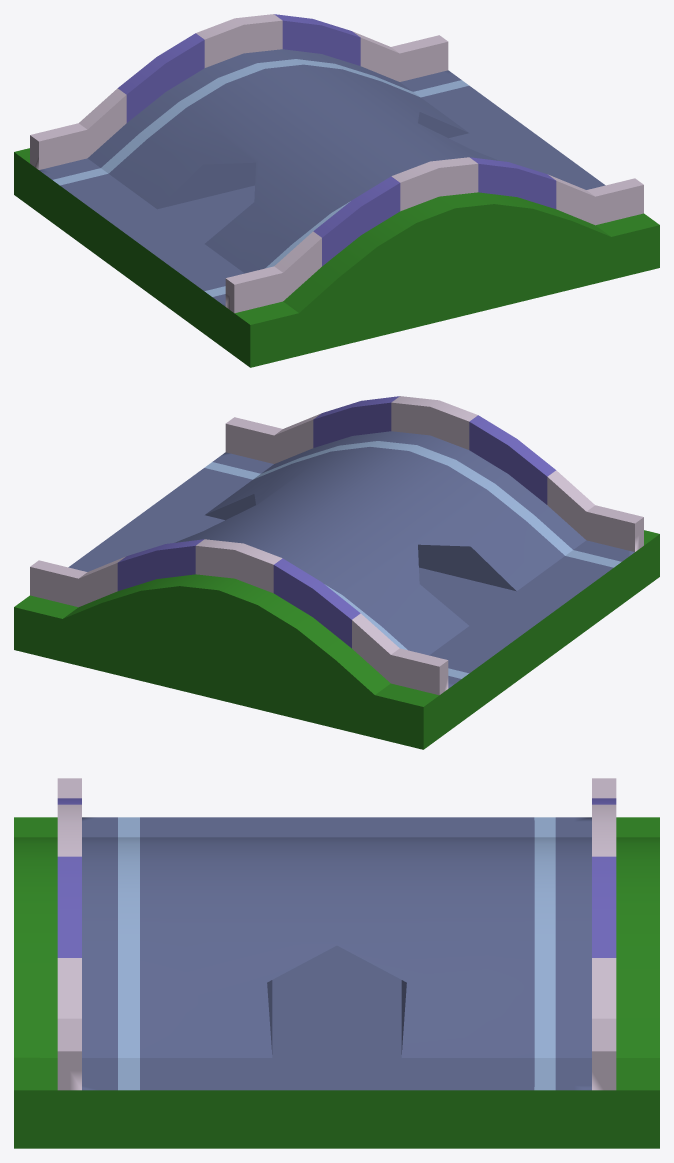
Rendered from Humped Base Hole.fbx.
3 views of the same model, one above another, from view 1: azimuth 30°, elevation 25°; view 2: azimuth 150°, elevation 25°; view 3: azimuth 270°, elevation 25° (orthographic). The views are drawn at different scales.
Parts seen in each view (by area): view 1: Box011; view 2: Box011; view 3: Box011.
Part boxes in pixels (<box>): Box011: <box>14,14,659,367</box>; Box011: <box>14,396,659,749</box>; Box011: <box>14,778,659,1148</box>.
Bounding box in the file's own units: 50.47 × 16.28 × 50.47.
